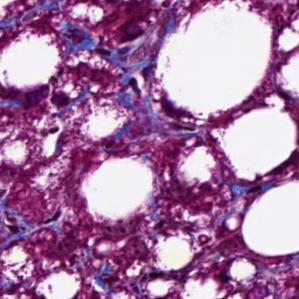inflammation: (153, 87, 198, 131), (43, 79, 82, 118)
